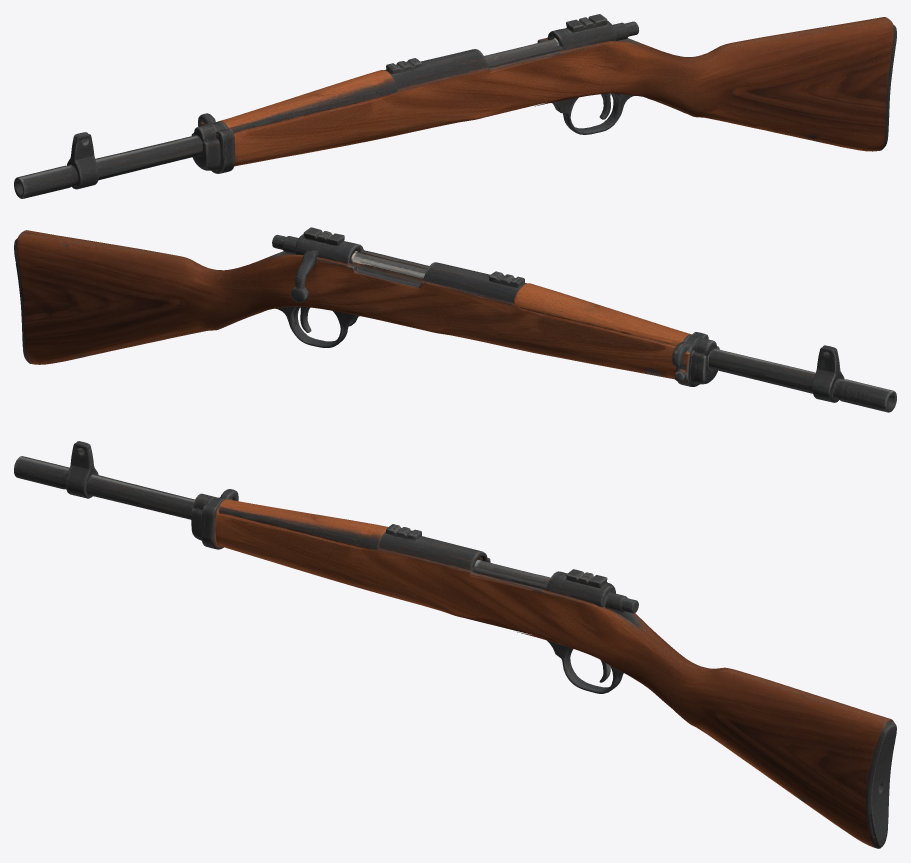
The model's file is kar98.glb.
3 views of the same model, one above another, from view 1: azimuth 30°, elevation 25°; view 2: azimuth 150°, elevation 25°; view 3: azimuth 330°, elevation 25° (orthographic).
Bounding box in the file's own units: 1.9 × 0.4393 × 0.1382.
1 material, 1 textured.
